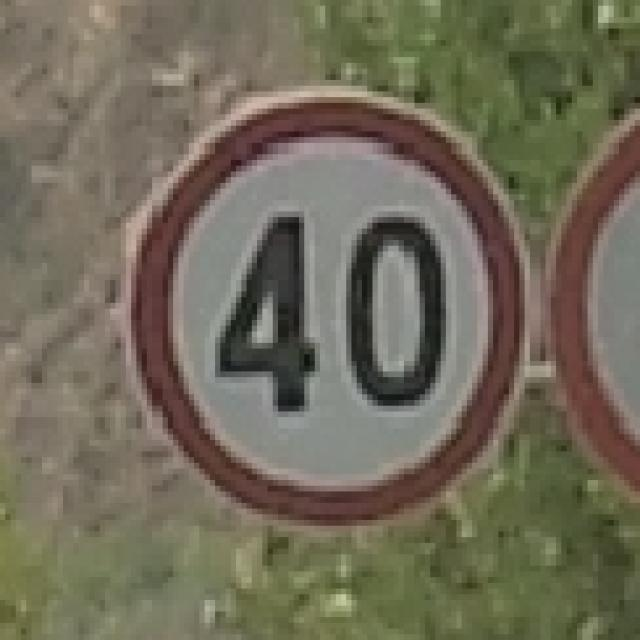Speed: (124, 69, 532, 528)
